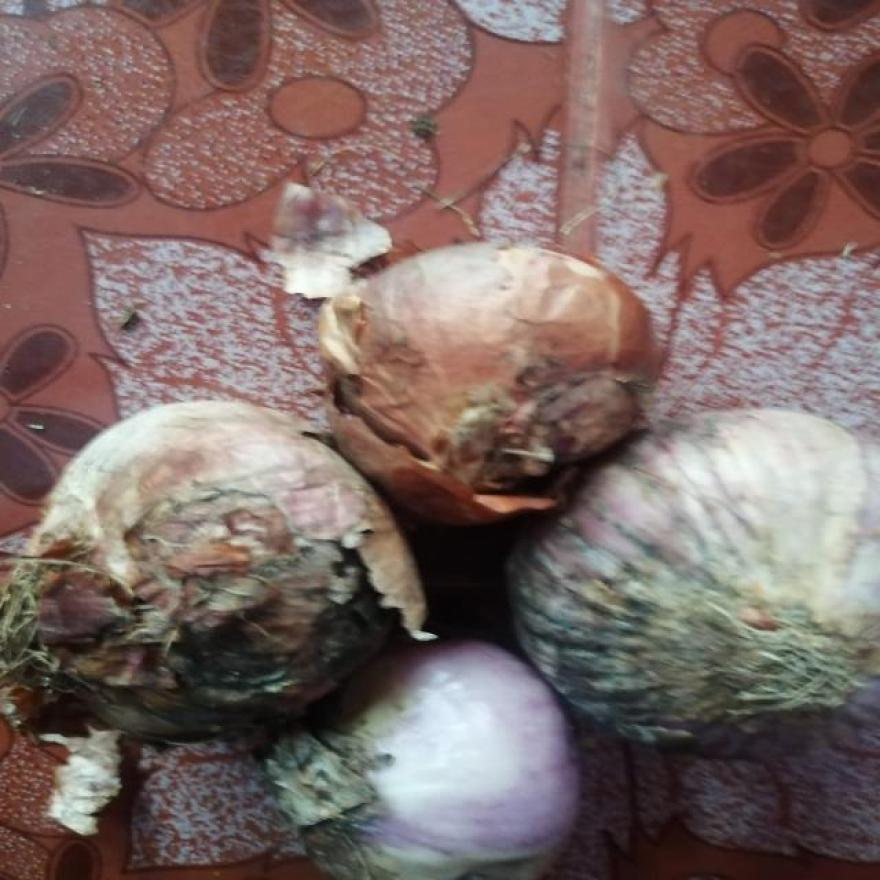Rotten: (128, 539, 342, 690), (549, 575, 723, 739), (412, 393, 596, 479)
